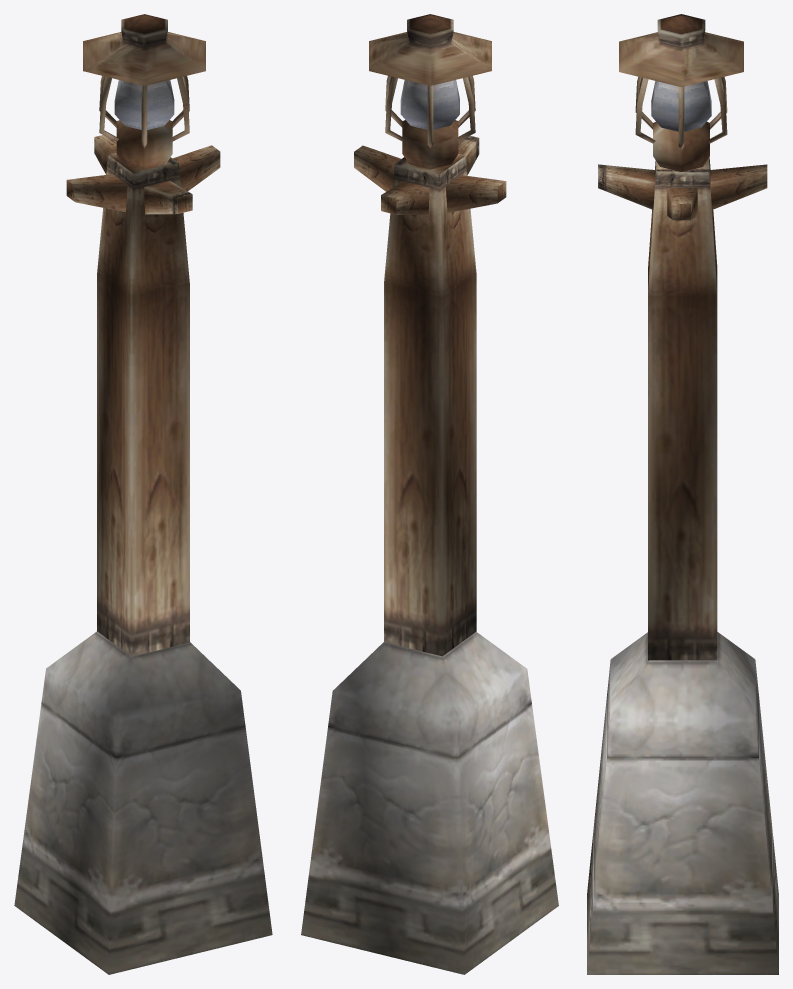
File: westfalllamppost01.obj
3 renders of one model, left to right at view 1: azimuth 30°, elevation 25°; view 2: azimuth 150°, elevation 25°; view 3: azimuth 270°, elevation 25°, orthographic.
Parts seen in each view (by area): view 1: WESTFALLLAMPPOST010, WESTFALLLAMPPOST011, WESTFALLLAMPPOST012; view 2: WESTFALLLAMPPOST010, WESTFALLLAMPPOST011, WESTFALLLAMPPOST012; view 3: WESTFALLLAMPPOST010, WESTFALLLAMPPOST011, WESTFALLLAMPPOST012.
Boxes of the visible parts, x1,y1,x2,y2 form: WESTFALLLAMPPOST010: [14, 631, 272, 974]; WESTFALLLAMPPOST011: [66, 14, 220, 656]; WESTFALLLAMPPOST012: [114, 80, 174, 129]; WESTFALLLAMPPOST010: [301, 631, 558, 974]; WESTFALLLAMPPOST011: [354, 14, 506, 656]; WESTFALLLAMPPOST012: [400, 80, 459, 129]; WESTFALLLAMPPOST010: [587, 632, 778, 974]; WESTFALLLAMPPOST011: [598, 14, 767, 660]; WESTFALLLAMPPOST012: [651, 81, 711, 131].
Bounding box in the file's own units: 0.7175 × 3.79 × 0.7175.
Materials: 3 (3 with a texture image).
